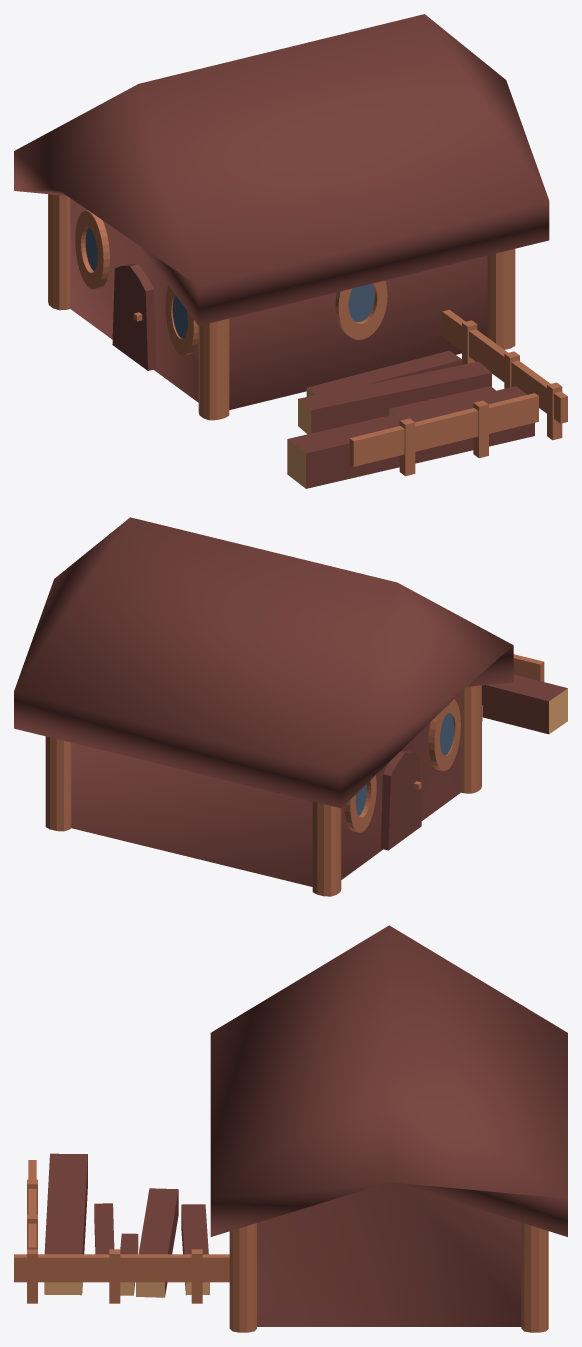
The model's file is woodcuttersHut.fbx.
3 views of the same model, one above another, from view 1: azimuth 30°, elevation 25°; view 2: azimuth 150°, elevation 25°; view 3: azimuth 270°, elevation 25° (orthographic). The views are drawn at different scales.
Visible parts, largest first — view 1: Sciany i dach, Cube.005, Cube.002, poziom.001, Cube, poziom, Cube.009, Cube.008, Cube.006, Cylinder.003, Cylinder.001, Cube.001 (+5 smaller); view 2: Sciany i dach, Cube.005, Cube, Cube.006, Cube.007, Cube.009, Cylinder, Cylinder.001, poziom.001; view 3: Sciany i dach, poziom, Cube.005, Cube.007, Cube.008, Cube.002, Cube.001, Cube.004, poziom.001, pion, pion.001, Cube.003 (+1 smaller).
Part boxes in pixels (x1,y1,x2,y2): Sciany i dach: (14,14,549,409); Cube.005: (287,386,534,488); Cube.002: (298,361,491,434); poziom.001: (349,393,538,466); Cube: (112,264,156,370); poziom: (442,309,567,423); Cube.009: (198,318,229,420); Cube.008: (487,249,515,349); Cube.006: (48,194,70,310); Cylinder.003: (335,280,387,339); Cylinder.001: (75,210,109,289); Cube.001: (306,350,462,396); Sciany i dach: (14,517,513,886); Cube.005: (482,674,567,734); Cube: (380,750,421,850); Cube.006: (312,801,341,896); Cube.007: (45,736,71,831); Cube.009: (461,685,481,793); Cylinder: (428,699,460,770); Cylinder.001: (344,775,376,832); poziom.001: (513,654,544,681); Sciany i dach: (210,925,567,1326); poziom: (14,1254,229,1282); Cube.005: (44,1153,87,1295); Cube.007: (521,1222,548,1332); Cube.008: (229,1223,256,1332); Cube.002: (136,1188,178,1297); Cube.001: (181,1204,209,1295); Cube.004: (94,1203,114,1254); poziom.001: (28,1160,36,1249); pion: (191,1249,202,1303); pion.001: (109,1249,120,1303); Cube.003: (120,1233,138,1295).
Size of the model in its own units: 7.71 by 4.52 by 8.52.
